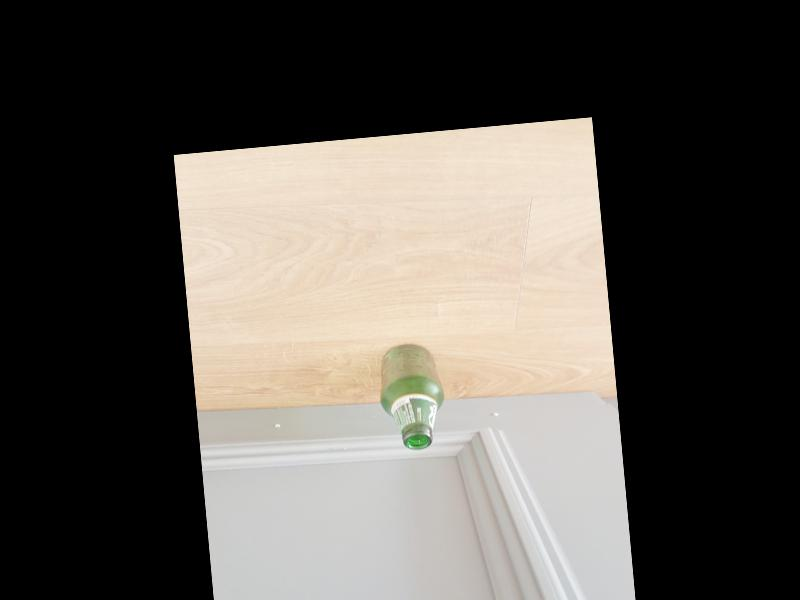Beer: (375, 341, 448, 452)
